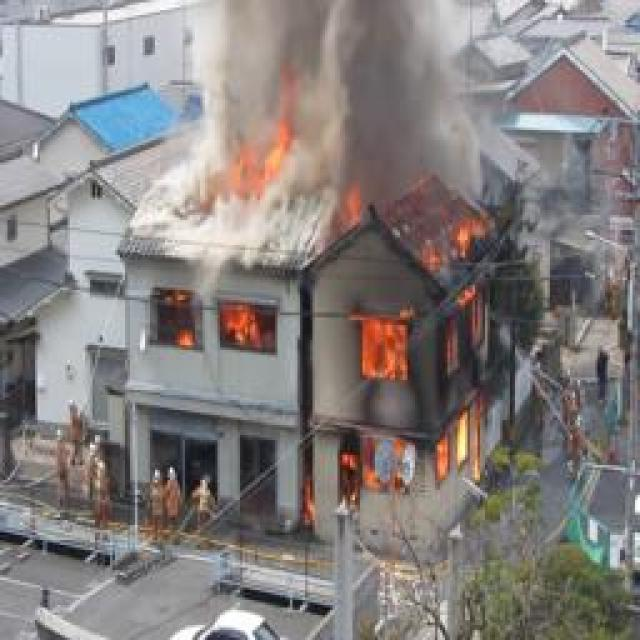Fire: (327, 189, 501, 514), (147, 288, 279, 350), (212, 138, 290, 205)
